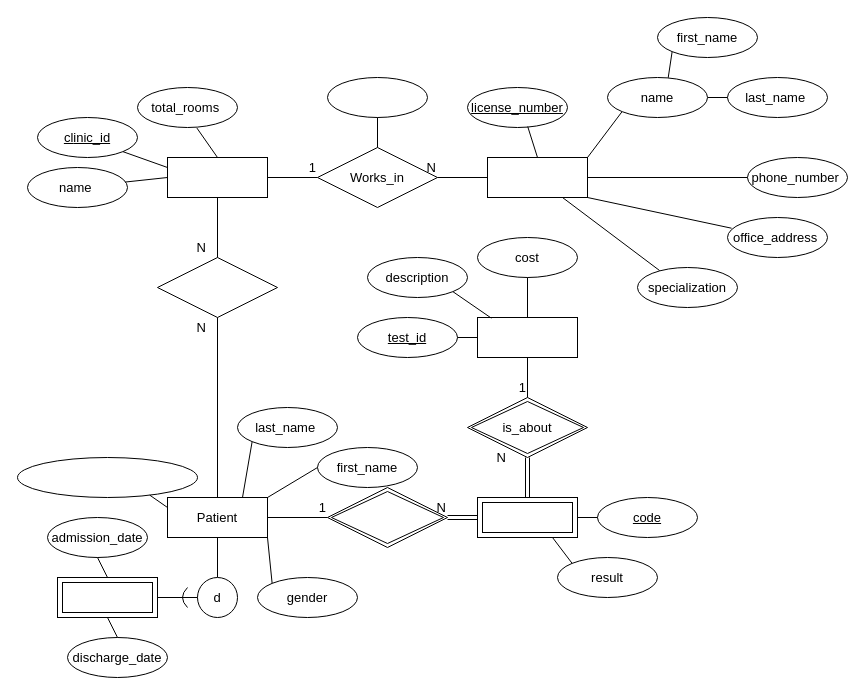
Some shapes in this 865 by 695 pixel diagram are drawn without their labels. Each missing label, with the centre of its shape:
"admission" belongs at pixel 217 287.
"Clinic" belongs at pixel 217 177.
"Doctor" belongs at pixel 537 177.
"has" belongs at pixel 387 517.
"INPATIENT" belongs at pixel 107 597.
"social_security_number" belongs at pixel 107 477.
"start_date" belongs at pixel 377 97.
"Test" belongs at pixel 527 337.
"Test_Result" belongs at pixel 527 517.
